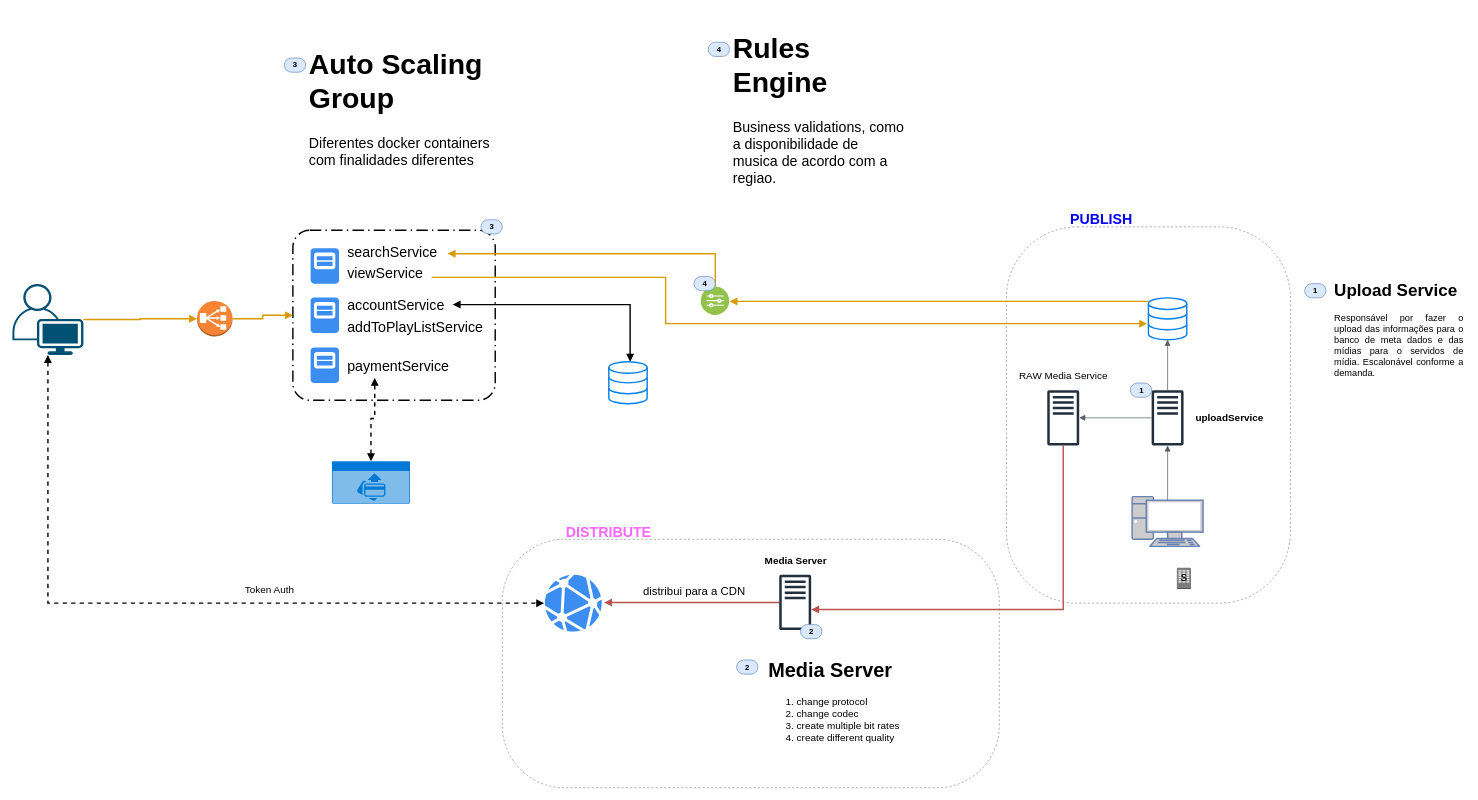
Some shapes in this 1478 by 800 pixel diagram are drawn without their labels. Each missing label, with the centre of its shape:
"MetaData DB" belongs at point (1167, 318).
"Payment Gateway" belongs at point (371, 482).
"User DB" belongs at point (628, 382).
